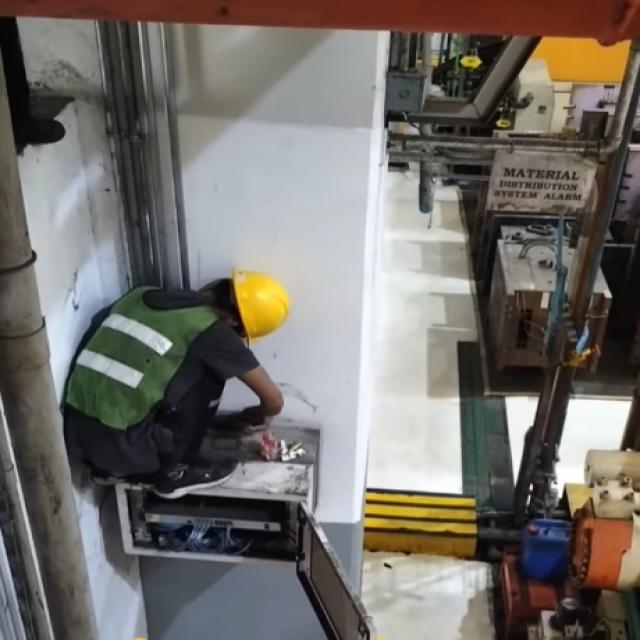yellow helmet: (229, 262, 300, 350)
